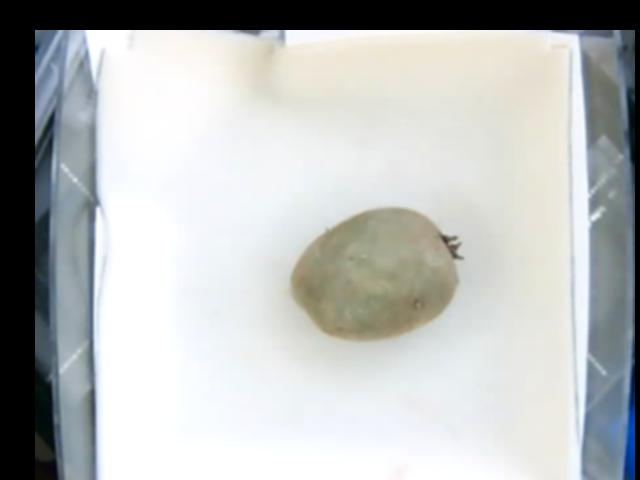Potato: (289, 203, 462, 344)
